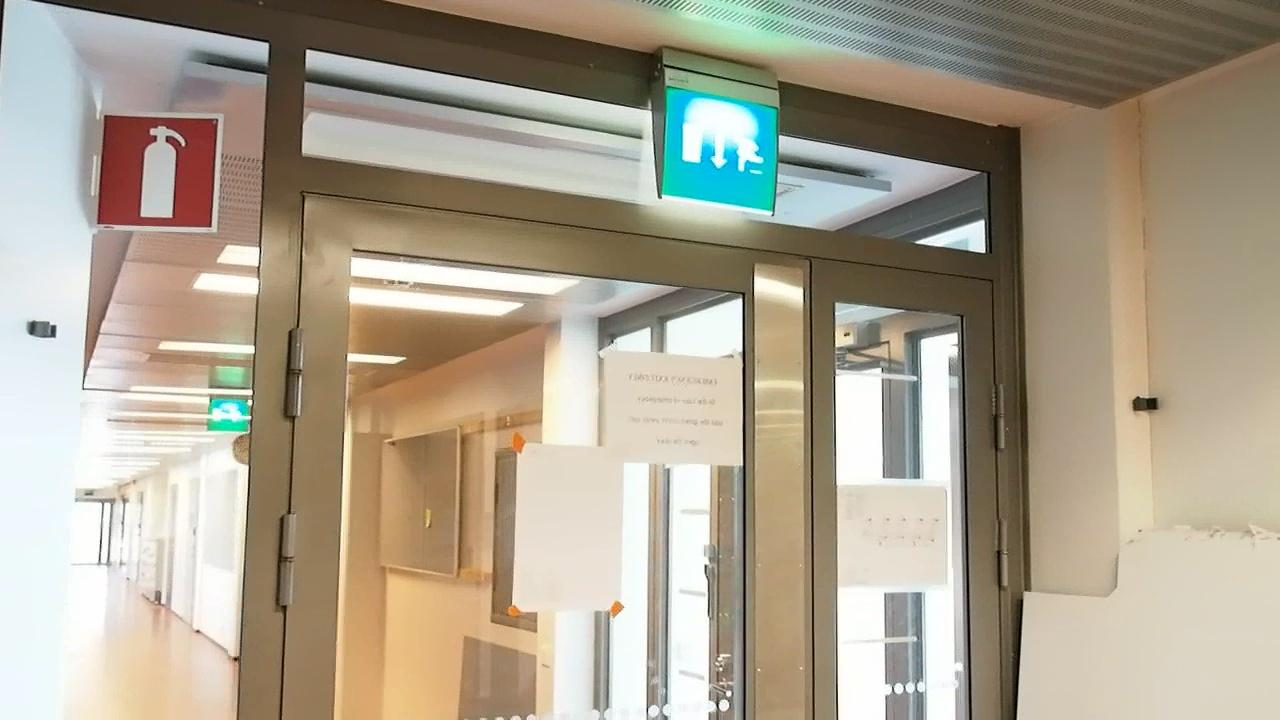exit: (659, 90, 781, 208)
fireextinguisher: (96, 112, 212, 228)
